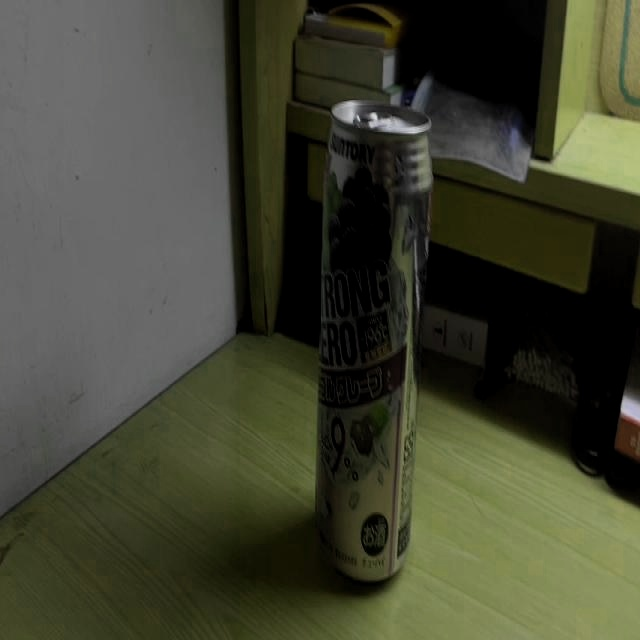Liquor: (315, 102, 433, 591)
